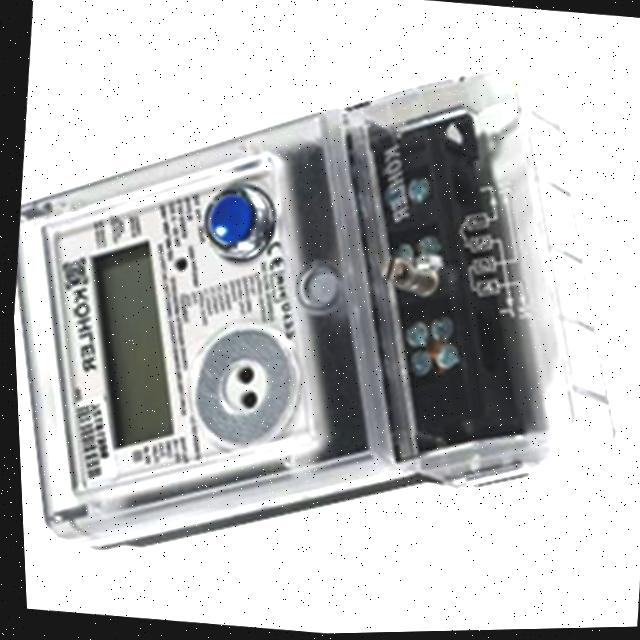electric-meter-detection: (16, 71, 610, 547)
